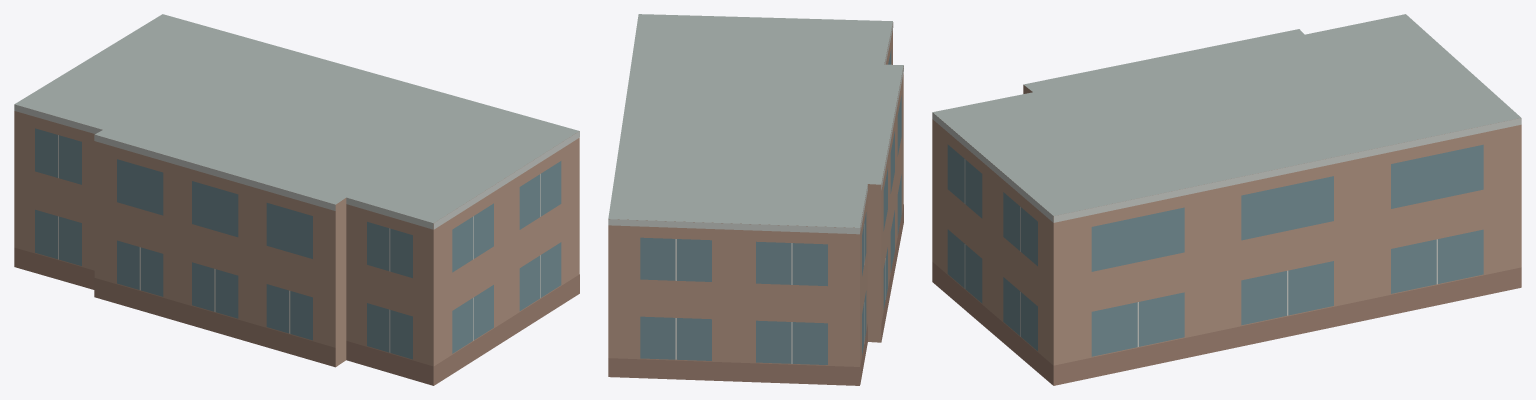
The model's file is survey-upis-32510923.glb.
3 views of the same model, side by side, from view 1: azimuth 30°, elevation 25°; view 2: azimuth 150°, elevation 25°; view 3: azimuth 270°, elevation 25° (orthographic). The views are drawn at different scales.
Parts seen in each view (by area): view 1: survey-upis-32510923.tmp; view 2: survey-upis-32510923.tmp; view 3: survey-upis-32510923.tmp.
Boxes of the visible parts, left/top/right/bottom form: survey-upis-32510923.tmp: left=14, top=14, right=579, bottom=385; survey-upis-32510923.tmp: left=608, top=14, right=903, bottom=385; survey-upis-32510923.tmp: left=932, top=14, right=1521, bottom=385.
Bounding box in the file's own units: 15.59 × 6.1 × 19.2.
